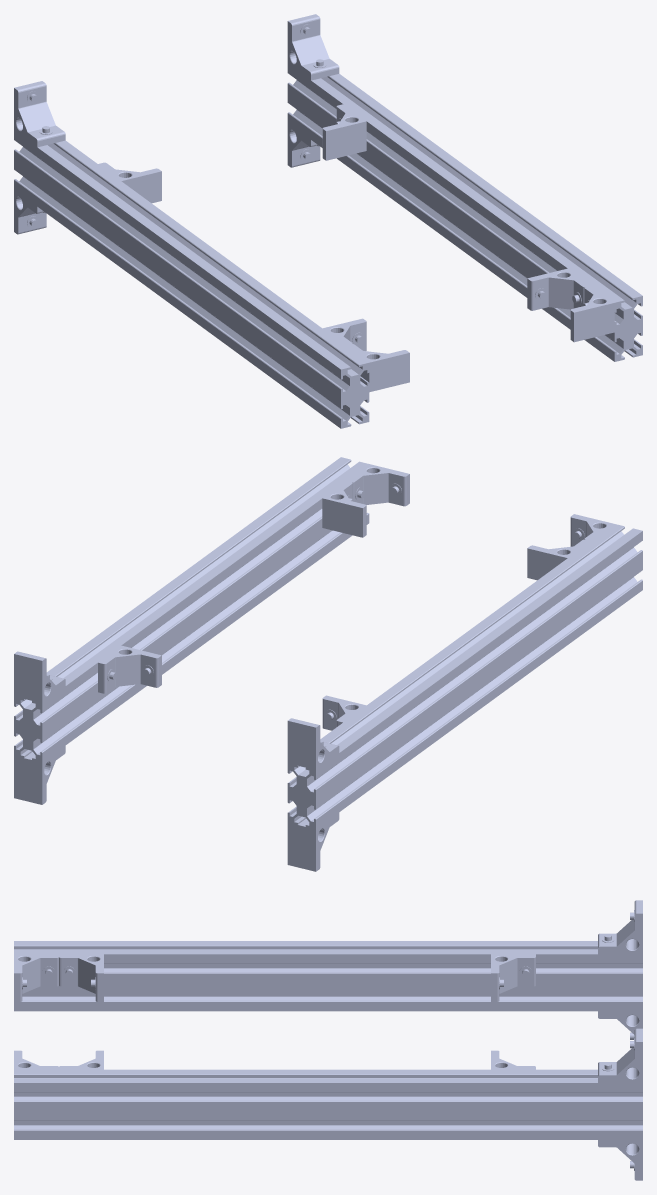
File: suporte_base_mesh.dae
3 views of the same model, one above another, from view 1: azimuth 30°, elevation 25°; view 2: azimuth 150°, elevation 25°; view 3: azimuth 270°, elevation 25° (orthographic). The views are drawn at different scales.
Visible parts, largest first — view 1: suporte_base; view 2: suporte_base; view 3: suporte_base.
Part boxes in pixels (x1,y1,x2,y2): suporte_base: (14, 14, 642, 428); suporte_base: (14, 457, 642, 871); suporte_base: (14, 900, 642, 1180).
Bounding box in the file's own units: 0.32 × 0.146 × 0.6.
